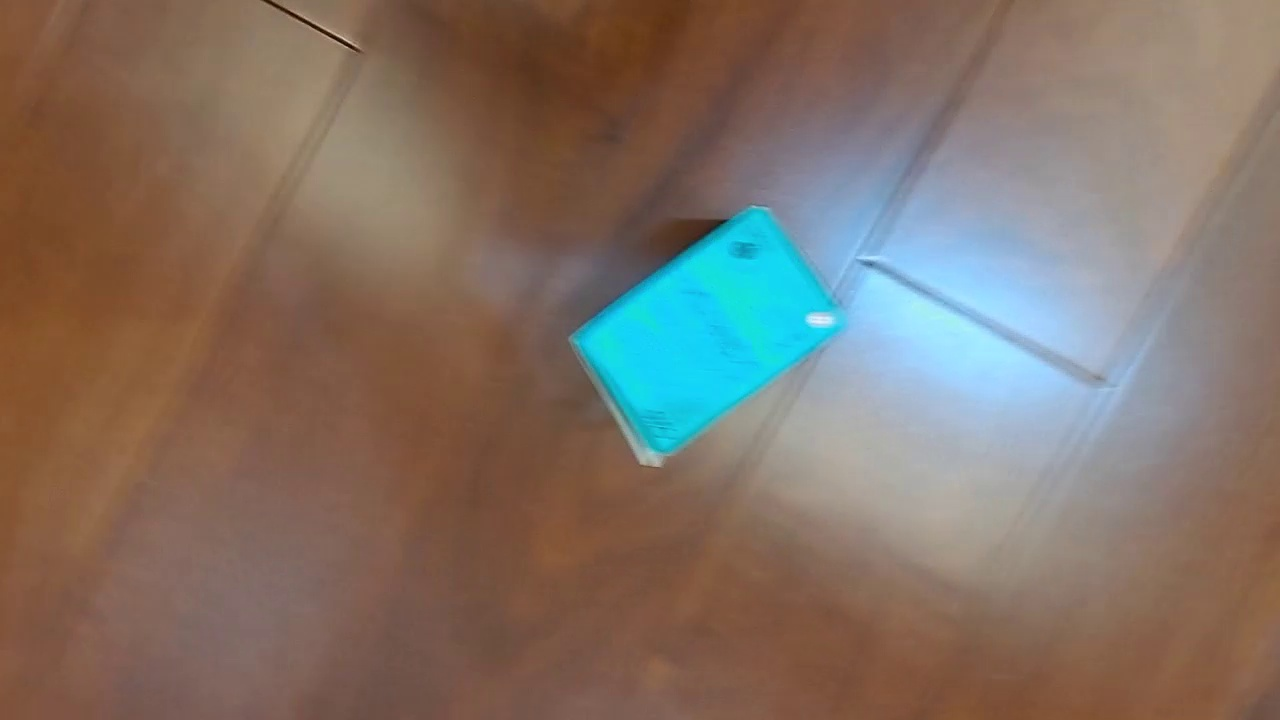webcam: (566, 202, 853, 469)
